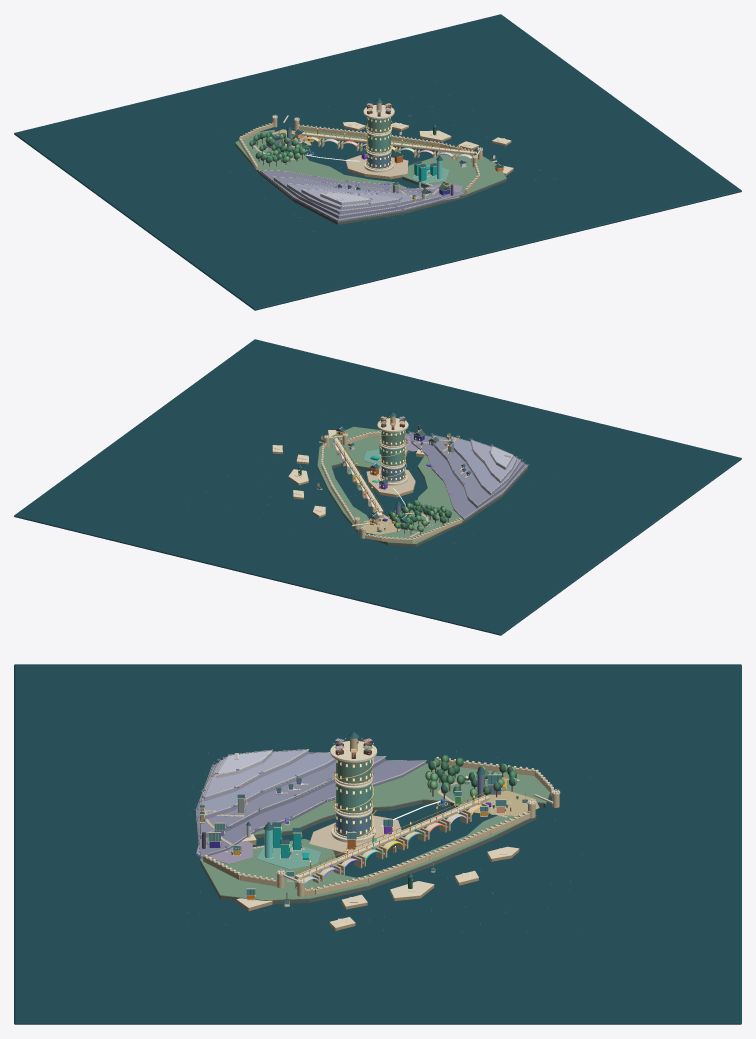
Rendered from kontextia-stadt.glb.
The picture shows the model from 3 angles, top to bottom: view 1: azimuth 30°, elevation 25°; view 2: azimuth 150°, elevation 25°; view 3: azimuth 270°, elevation 25°; orthographic projection. The views are drawn at different scales.
Visible parts, largest first — view 1: Quiet sea, Sage meadow surface, Musical mountain terrace 1, Musical mountain terrace 2, Musical mountain terrace 3, walls__0, Canonical coast, Musical mountain terrace 4, L09__1, bridge__0, turminsel surface, bridge__2 (+1 smaller); view 2: Quiet sea, Sage meadow surface, Musical mountain terrace 1, Musical mountain terrace 2, Musical mountain terrace 3, walls__0, Canonical coast, Musical mountain terrace 4, L09__1, walls__1, bridge__0, turminsel surface; view 3: Quiet sea, Sage meadow surface, Musical mountain terrace 1, walls__0, Musical mountain terrace 2, Musical mountain terrace 3, Canonical coast, Musical mountain terrace 4, L09__1, bridge__0, bridge__2, walls__1 (+12 smaller).
Boxes of the visible parts, x1,y1,x2,y2 form: Quiet sea: (14, 14, 741, 310); Sage meadow surface: (235, 128, 506, 222); Musical mountain terrace 1: (260, 170, 464, 221); Musical mountain terrace 2: (273, 177, 440, 218); Musical mountain terrace 3: (287, 184, 422, 214); walls__0: (239, 118, 482, 193); Canonical coast: (235, 129, 506, 224); Musical mountain terrace 4: (301, 189, 400, 209); L09__1: (343, 122, 513, 173); bridge__0: (302, 132, 474, 159); turminsel surface: (346, 155, 408, 176); bridge__2: (301, 134, 474, 162); Quiet sea: (14, 339, 741, 635); Sage meadow surface: (317, 426, 527, 544); Musical mountain terrace 1: (409, 432, 527, 519); Musical mountain terrace 2: (432, 435, 524, 508); Musical mountain terrace 3: (451, 436, 520, 495); walls__0: (321, 431, 461, 543); Canonical coast: (317, 450, 527, 546); Musical mountain terrace 4: (470, 440, 516, 483); L09__1: (272, 427, 354, 515); walls__1: (321, 431, 460, 539); bridge__0: (333, 438, 383, 518); turminsel surface: (366, 468, 415, 494); Quiet sea: (14, 664, 741, 1024); Sage meadow surface: (196, 763, 550, 900); Musical mountain terrace 1: (196, 760, 425, 858); walls__0: (203, 758, 559, 896); Musical mountain terrace 2: (200, 756, 385, 839); Musical mountain terrace 3: (200, 752, 335, 820); Canonical coast: (196, 793, 550, 904); Musical mountain terrace 4: (204, 749, 308, 801); L09__1: (236, 846, 519, 927); bridge__0: (295, 795, 489, 888); bridge__2: (294, 798, 489, 888); walls__1: (204, 757, 560, 890).
Size of the model in its own units: 210 by 30.62 by 180.
